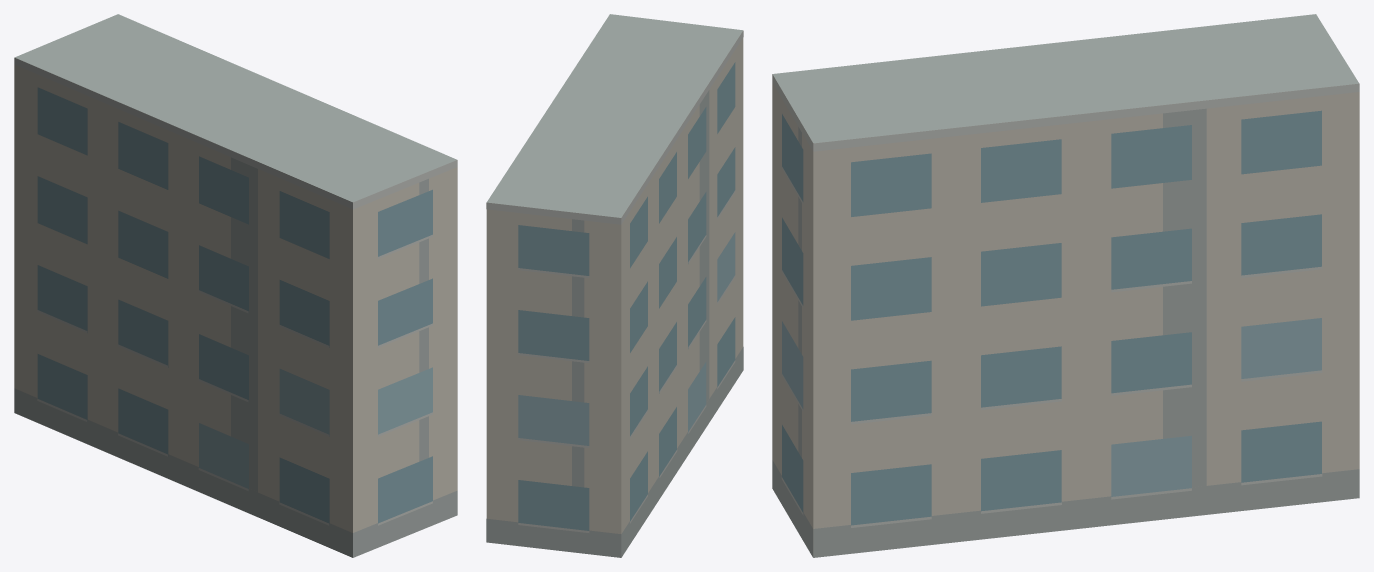
The model's file is residential-19d5506e-fe42-43dd-af84-d71d88f416b1.glb.
The picture shows the model from 3 angles, left to right: view 1: azimuth 30°, elevation 25°; view 2: azimuth 150°, elevation 25°; view 3: azimuth 270°, elevation 25°; orthographic projection. The views are drawn at different scales.
Visible parts, largest first — view 1: residential-19d5506e-fe42-43dd-af84-d71d88f416b1.tmp; view 2: residential-19d5506e-fe42-43dd-af84-d71d88f416b1.tmp; view 3: residential-19d5506e-fe42-43dd-af84-d71d88f416b1.tmp.
Boxes of the visible parts, x1,y1,x2,y2 form: residential-19d5506e-fe42-43dd-af84-d71d88f416b1.tmp: (14,14,457,557); residential-19d5506e-fe42-43dd-af84-d71d88f416b1.tmp: (486,14,743,557); residential-19d5506e-fe42-43dd-af84-d71d88f416b1.tmp: (772,14,1359,557).
Bounding box in the file's own units: 8.18 × 12.2 × 15.67.
